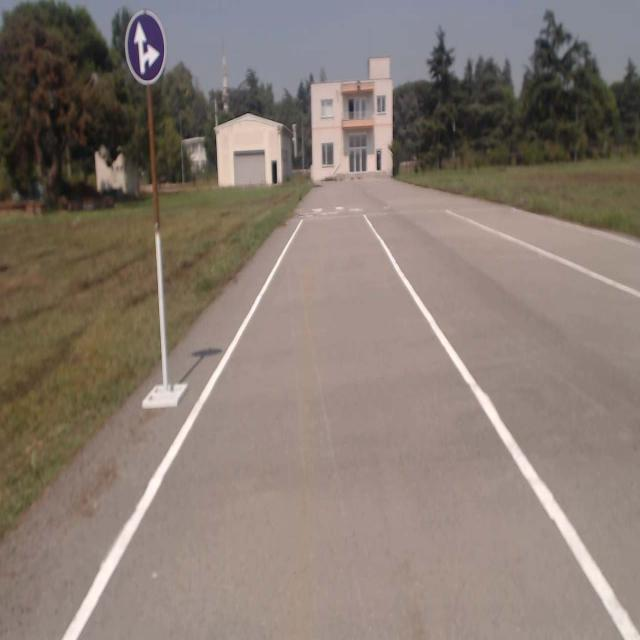ilerisag: (128, 14, 166, 81)
